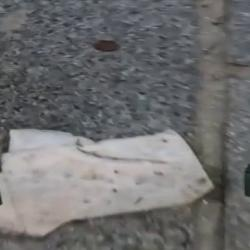Restaffald: (0, 129, 214, 236)
